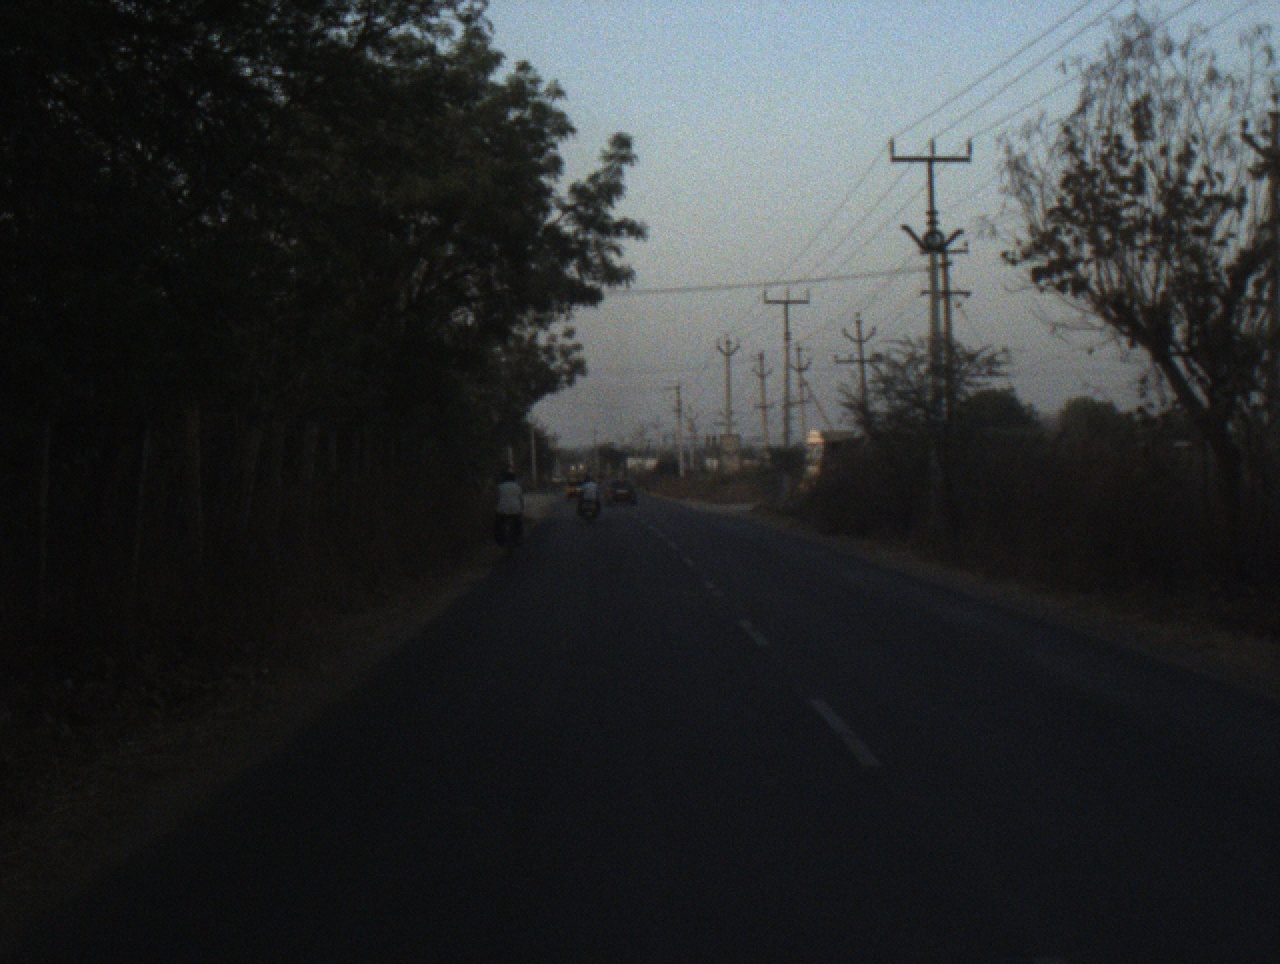autorickshaw: (561, 462, 590, 503)
bicycle: (495, 514, 516, 563)
car: (603, 478, 638, 507), (552, 470, 566, 485)
motorcycle: (577, 498, 605, 526)
rider: (492, 468, 524, 549), (581, 474, 603, 516)
